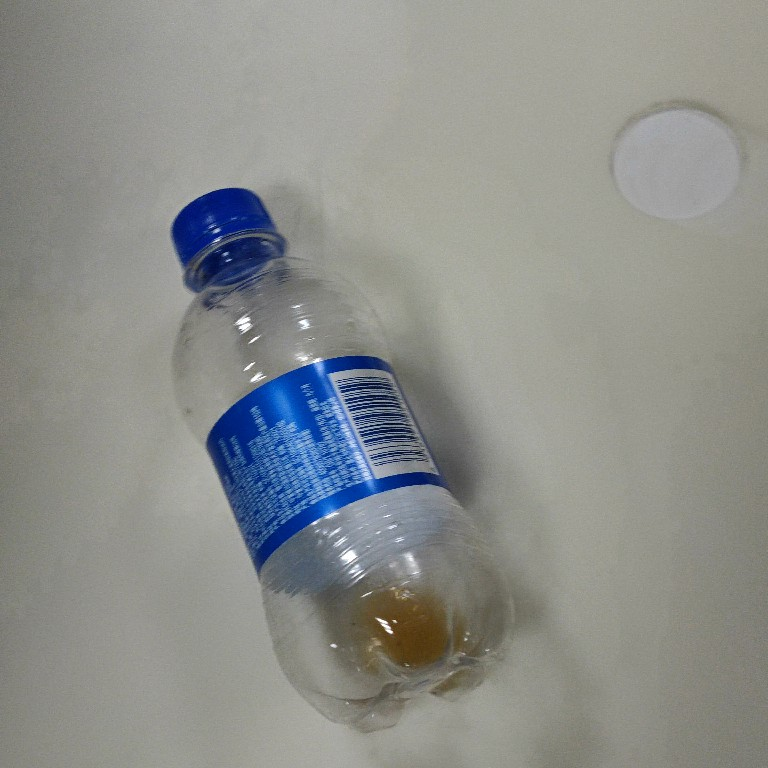bottle: (162, 184, 516, 739)
